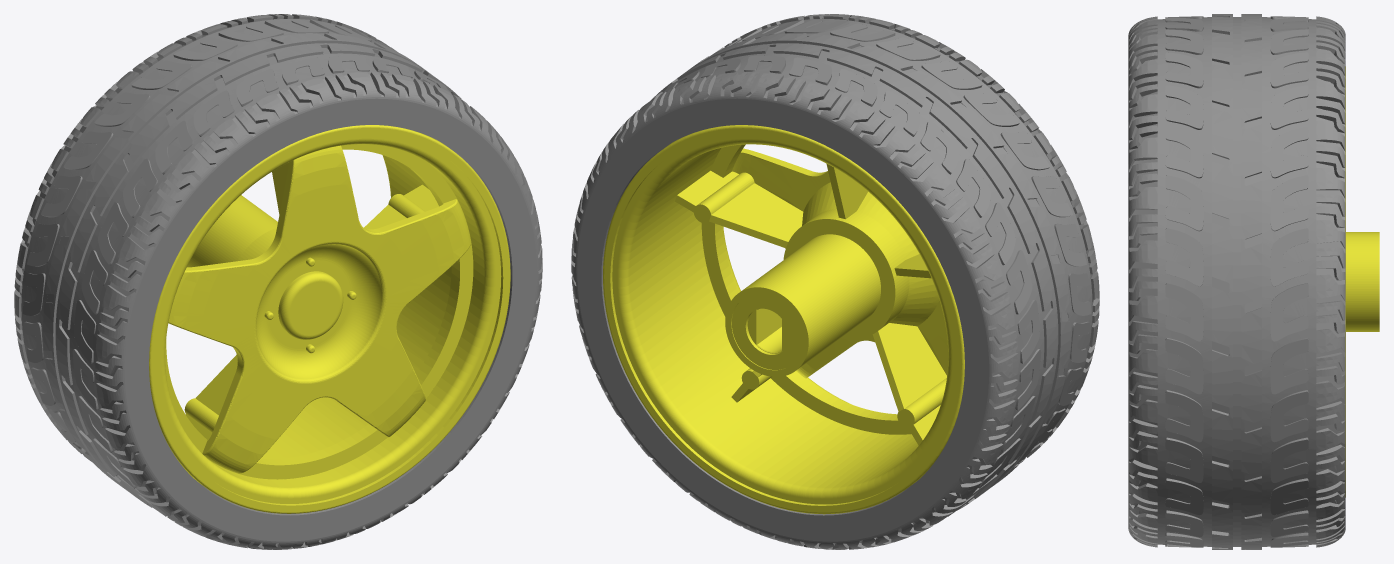
File: Wheel_v2.glb
3 renders of one model, left to right at view 1: azimuth 30°, elevation 25°; view 2: azimuth 150°, elevation 25°; view 3: azimuth 270°, elevation 25°, orthographic. The views are drawn at different scales.
Visible parts, largest first — view 1: Node7, Node8, Node2, Node4, Node1, Node5, Node3, Node6; view 2: Node7, Node1, Node2, Node6, Node5, Node8, Node3, Node4; view 3: Node2, Node1, Node8, Node5, Node6, Node4, Node3, Node7.
Boxes of the visible parts, x1=… form: Node7: x1=149, y1=125, x2=510, y2=513; Node8: x1=72, y1=55, x2=542, y2=549; Node2: x1=22, y1=19, x2=461, y2=509; Node4: x1=74, y1=72, x2=542, y2=549; Node1: x1=14, y1=14, x2=390, y2=451; Node5: x1=24, y1=19, x2=426, y2=484; Node3: x1=62, y1=48, x2=542, y2=549; Node6: x1=14, y1=14, x2=358, y2=462; Node7: x1=603, y1=125, x2=964, y2=514; Node1: x1=571, y1=53, x2=1044, y2=541; Node2: x1=663, y1=19, x2=1092, y2=516; Node6: x1=571, y1=72, x2=1018, y2=549; Node5: x1=601, y1=43, x2=1056, y2=516; Node8: x1=722, y1=15, x2=1099, y2=464; Node3: x1=717, y1=14, x2=1099, y2=462; Node4: x1=763, y1=14, x2=1099, y2=463; Node2: x1=1157, y1=14, x2=1308, y2=549; Node1: x1=1262, y1=16, x2=1345, y2=546; Node8: x1=1129, y1=16, x2=1203, y2=547; Node5: x1=1241, y1=14, x2=1308, y2=549; Node6: x1=1316, y1=16, x2=1345, y2=547; Node4: x1=1128, y1=16, x2=1203, y2=547; Node3: x1=1129, y1=17, x2=1274, y2=547; Node7: x1=1345, y1=66, x2=1379, y2=497.
Size of the model in its own units: 64.16 by 64.16 by 30.05.
